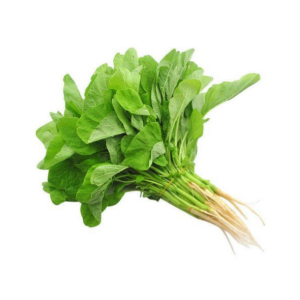Bayam: (28, 40, 281, 262)
